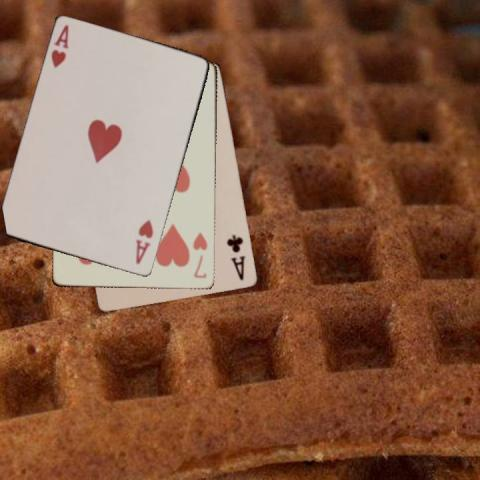7h: (190, 229, 209, 280)
Ac: (224, 232, 246, 282)
Ah: (48, 22, 71, 70), (133, 217, 155, 266)
